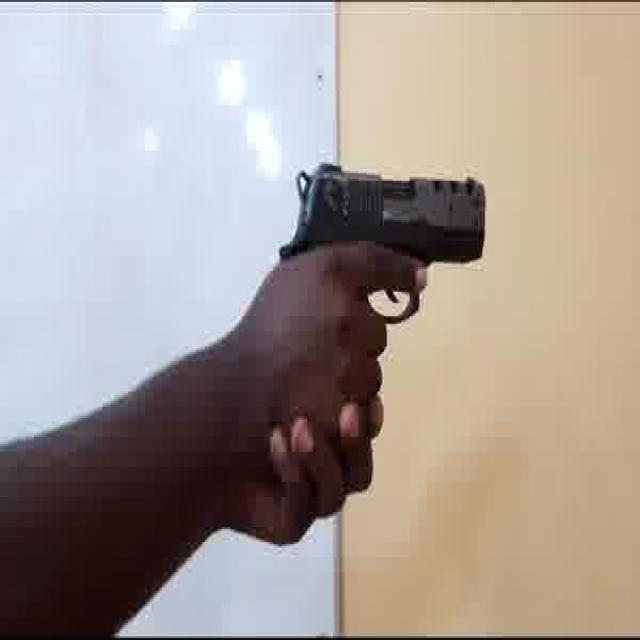weapon: (275, 161, 487, 330)
